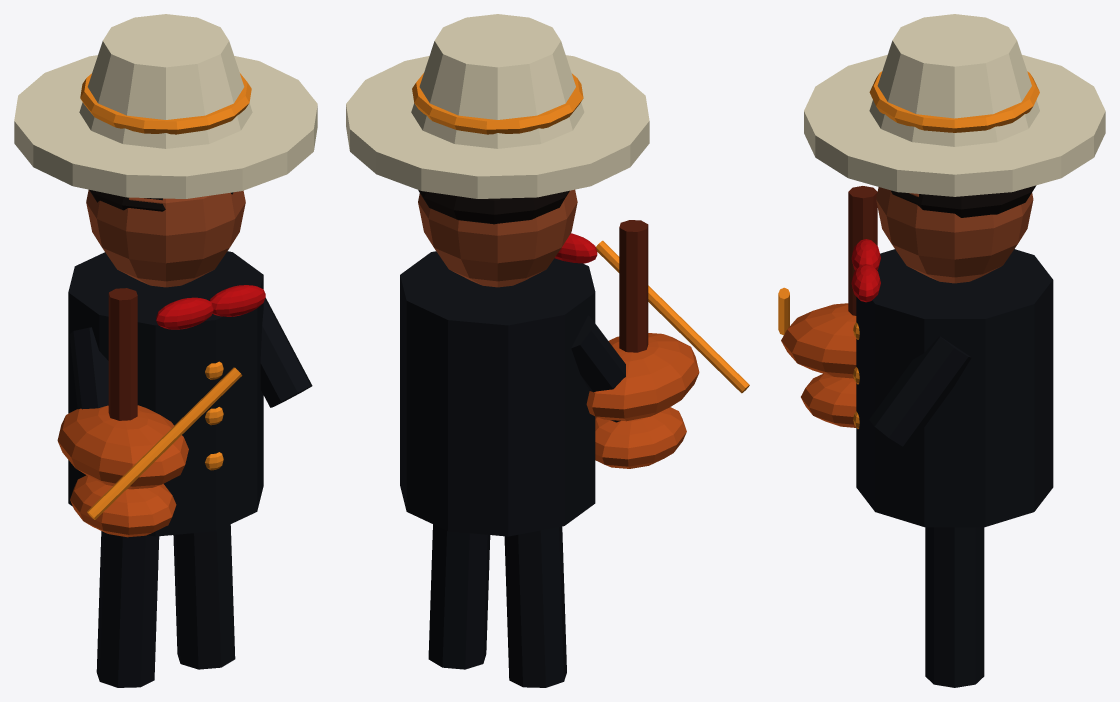
Rendered from mariachi_violin.obj.
3 views of the same model, side by side, from view 1: azimuth 30°, elevation 25°; view 2: azimuth 150°, elevation 25°; view 3: azimuth 270°, elevation 25° (orthographic).
Parts seen in each view (by area): view 1: mariachi_violin; view 2: mariachi_violin; view 3: mariachi_violin.
Boxes of the visible parts, <box> form: mariachi_violin: <box>14,14,317,687</box>; mariachi_violin: <box>346,14,749,687</box>; mariachi_violin: <box>778,14,1105,687</box>.
Size of the model in its own units: 1.03 by 2.08 by 0.998.
